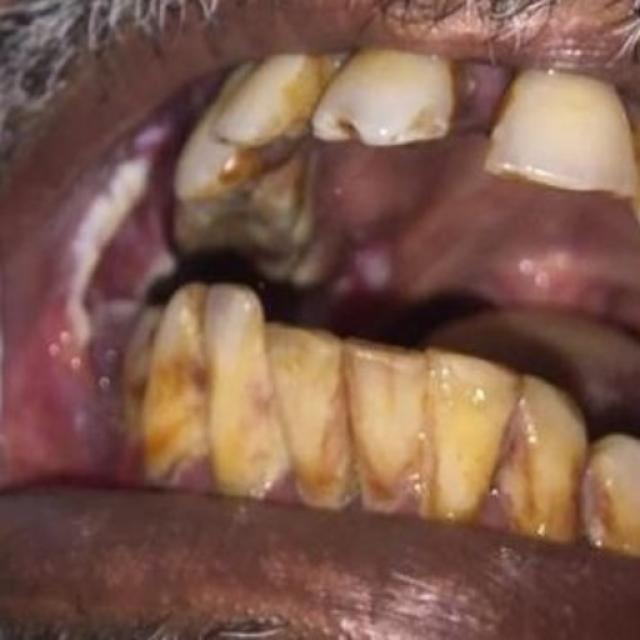leukoplakia-detection: (60, 133, 149, 375)
processing_area: (10, 113, 182, 496)
